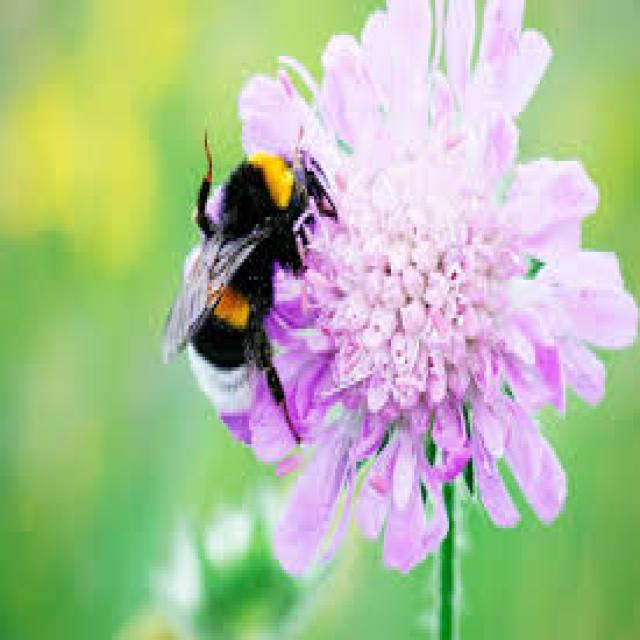Bees: (150, 106, 344, 455)
